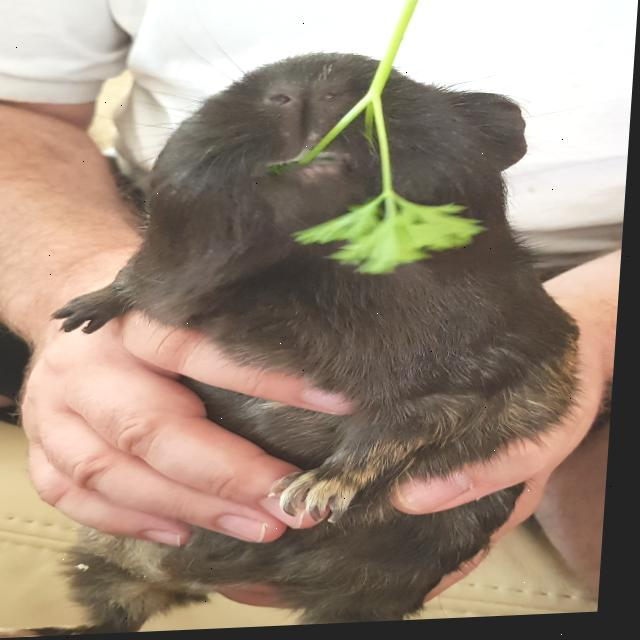guinea pig: (0, 41, 619, 640)
